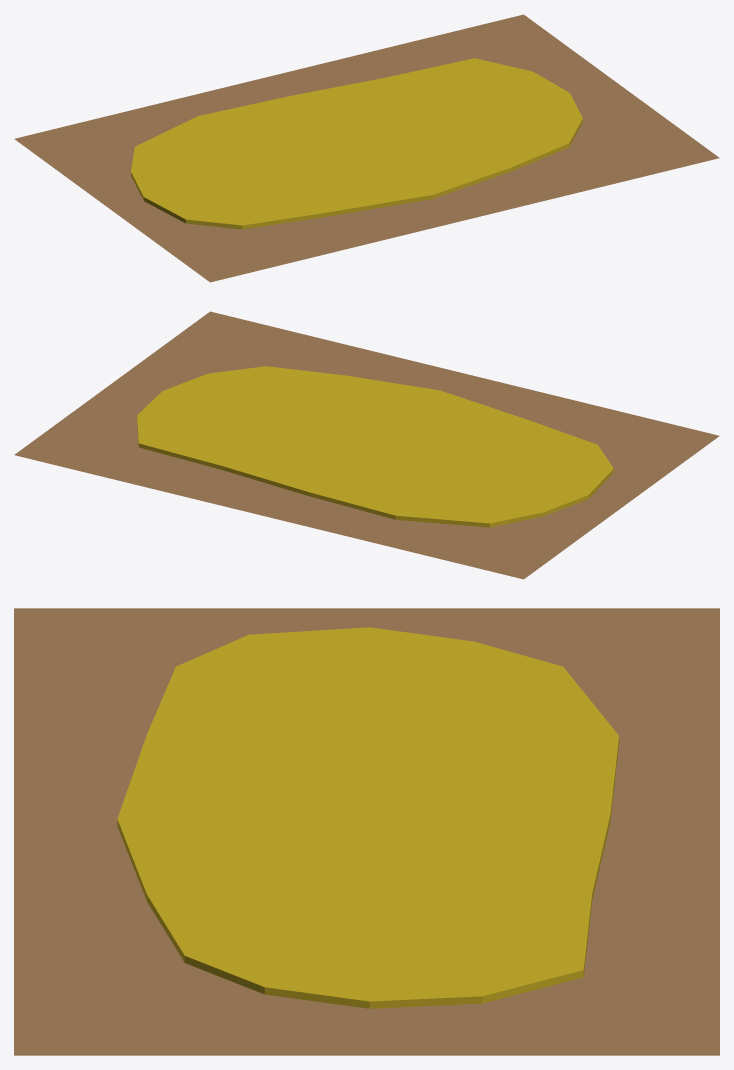
The model's file is Bed Var 2.fbx.
3 views of the same model, one above another, from view 1: azimuth 30°, elevation 25°; view 2: azimuth 150°, elevation 25°; view 3: azimuth 270°, elevation 25° (orthographic). The views are drawn at different scales.
Parts seen in each view (by area): view 1: Bed Var 2; view 2: Bed Var 2; view 3: Bed Var 2.
Boxes of the visible parts, x1,y1,x2,y2 form: Bed Var 2: (14, 14, 719, 282); Bed Var 2: (14, 311, 719, 579); Bed Var 2: (14, 608, 719, 1055).
Bounding box in the file's own units: 300 × 2.93 × 200.
